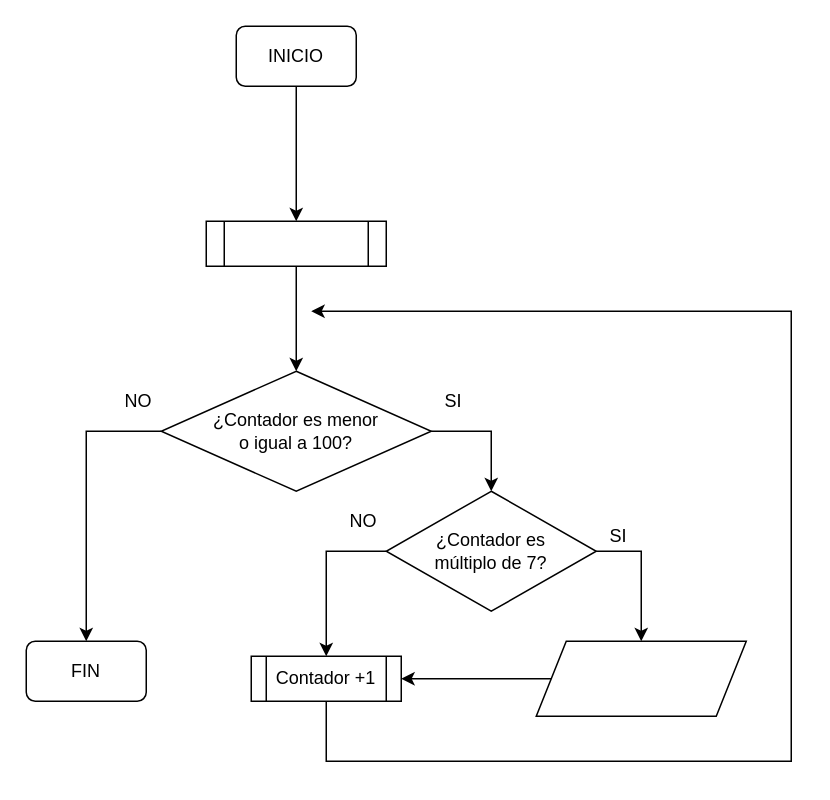
The diagram is 830 pixels wide and 800 high, and some of its shapes have lost their labels. Each missing label, with the centre of its shape:
"Contador = 1" goes at pixel 295 243.
"Mostrar el valor del contador" goes at pixel 640 678.
